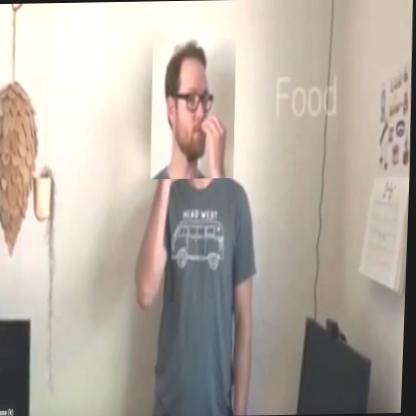Food: (149, 38, 238, 178)
